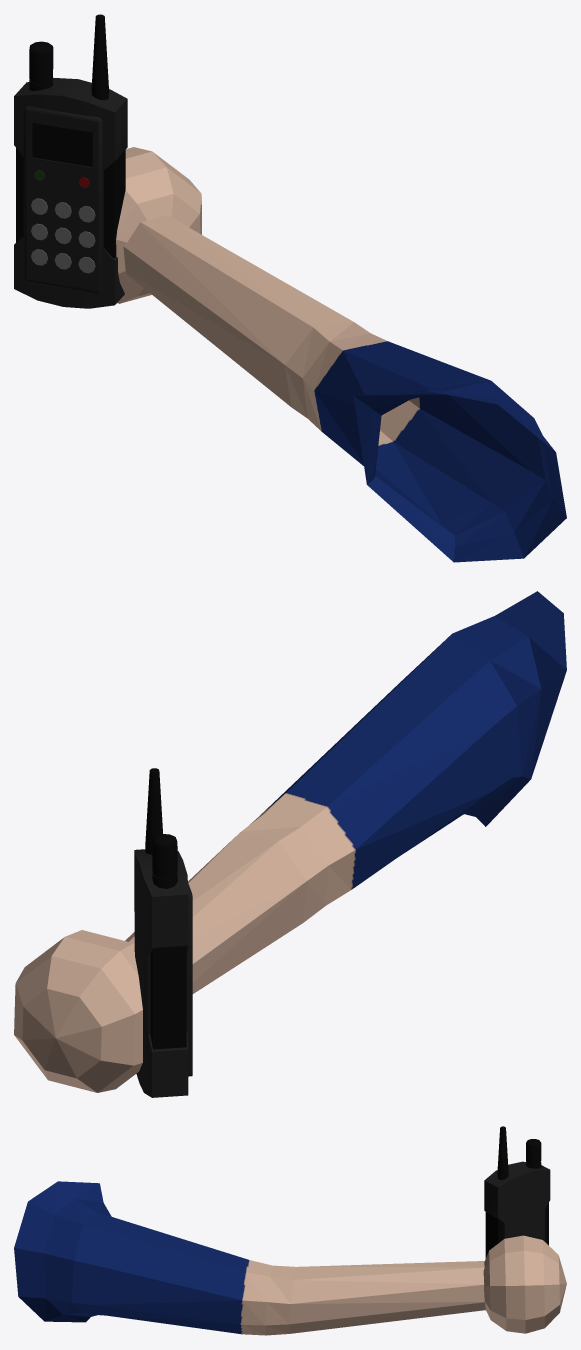
Rendered from TalkieWalkieArm.fbx.
3 renders of one model, top to bottom at view 1: azimuth 30°, elevation 25°; view 2: azimuth 150°, elevation 25°; view 3: azimuth 270°, elevation 25°, orthographic. The views are drawn at different scales.
Visible parts, largest first — view 1: Arm_Right; view 2: Arm_Right; view 3: Arm_Right.
Part boxes in pixels (<box>): Arm_Right: <box>14,14,566,562</box>; Arm_Right: <box>14,591,566,1097</box>; Arm_Right: <box>14,1126,566,1335</box>.
Bounding box in the file's own units: 5.38 × 22.95 × 8.69.
